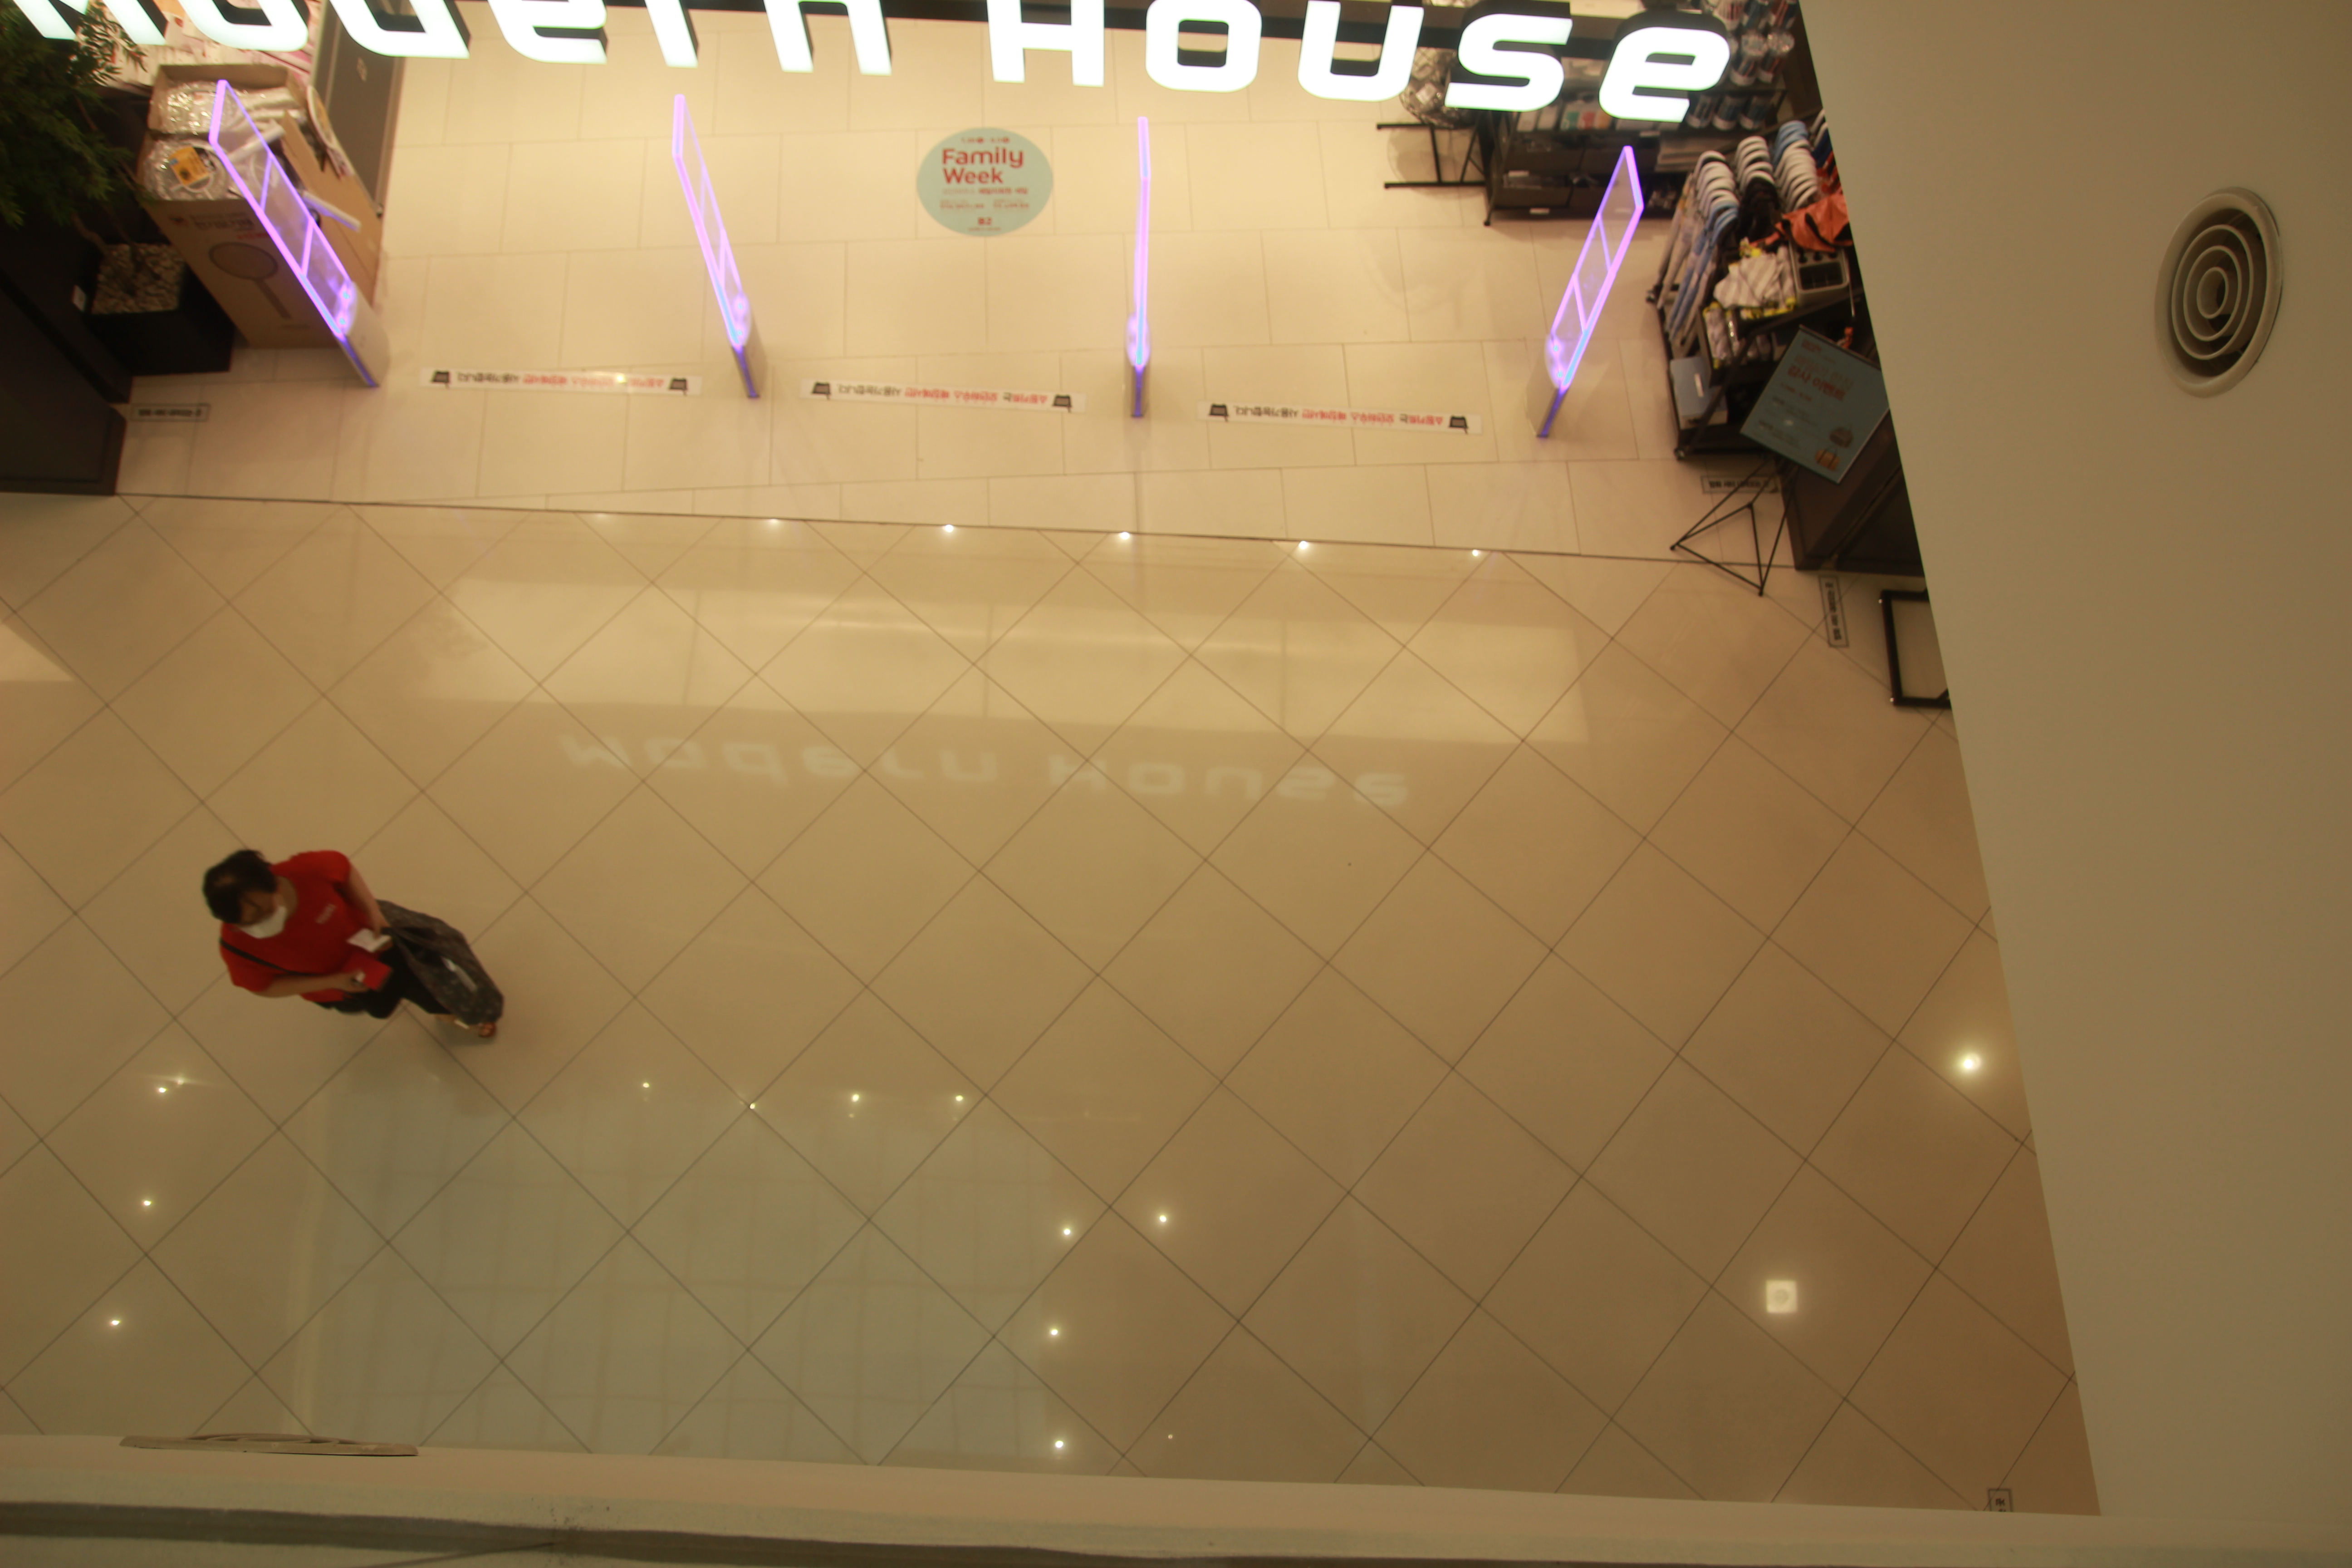person: (200, 846, 507, 1050)
